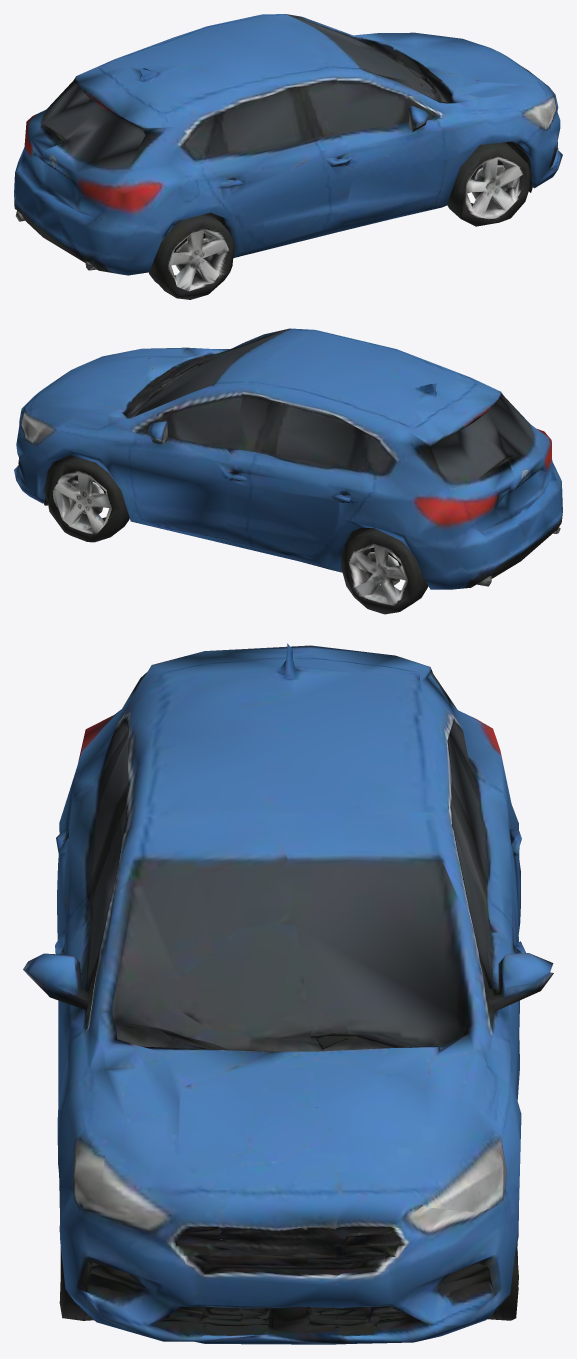
Rendered from car-family-lod.glb.
3 renders of one model, top to bottom at view 1: azimuth 30°, elevation 25°; view 2: azimuth 150°, elevation 25°; view 3: azimuth 270°, elevation 25°, orthographic. The views are drawn at different scales.
Parts seen in each view (by area): view 1: tripo_node_7f3ebfde-6ad0-4142-a028-8af780ccb5b4; view 2: tripo_node_7f3ebfde-6ad0-4142-a028-8af780ccb5b4; view 3: tripo_node_7f3ebfde-6ad0-4142-a028-8af780ccb5b4.
Part boxes in pixels (<box>): tripo_node_7f3ebfde-6ad0-4142-a028-8af780ccb5b4: <box>14,14,562,299</box>; tripo_node_7f3ebfde-6ad0-4142-a028-8af780ccb5b4: <box>14,328,562,614</box>; tripo_node_7f3ebfde-6ad0-4142-a028-8af780ccb5b4: <box>23,643,553,1344</box>.
Size of the model in its own units: 0.998 by 0.3683 by 0.4686.
Materials: 1 (1 with a texture image).
